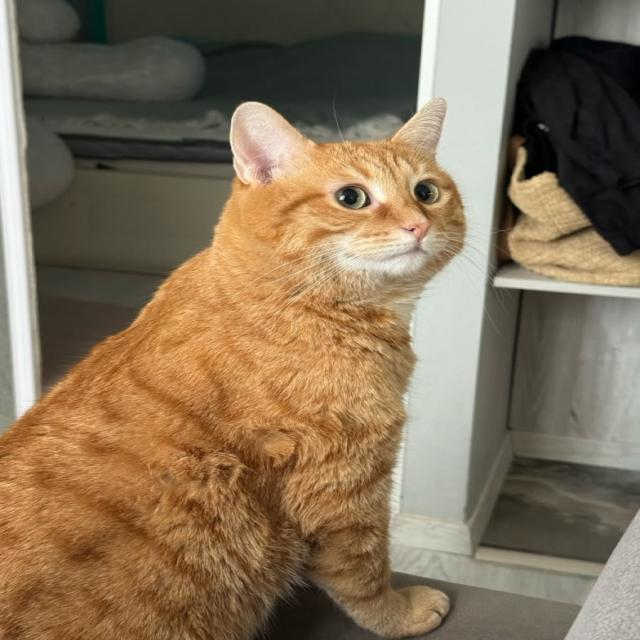sarman: (0, 99, 466, 639)
